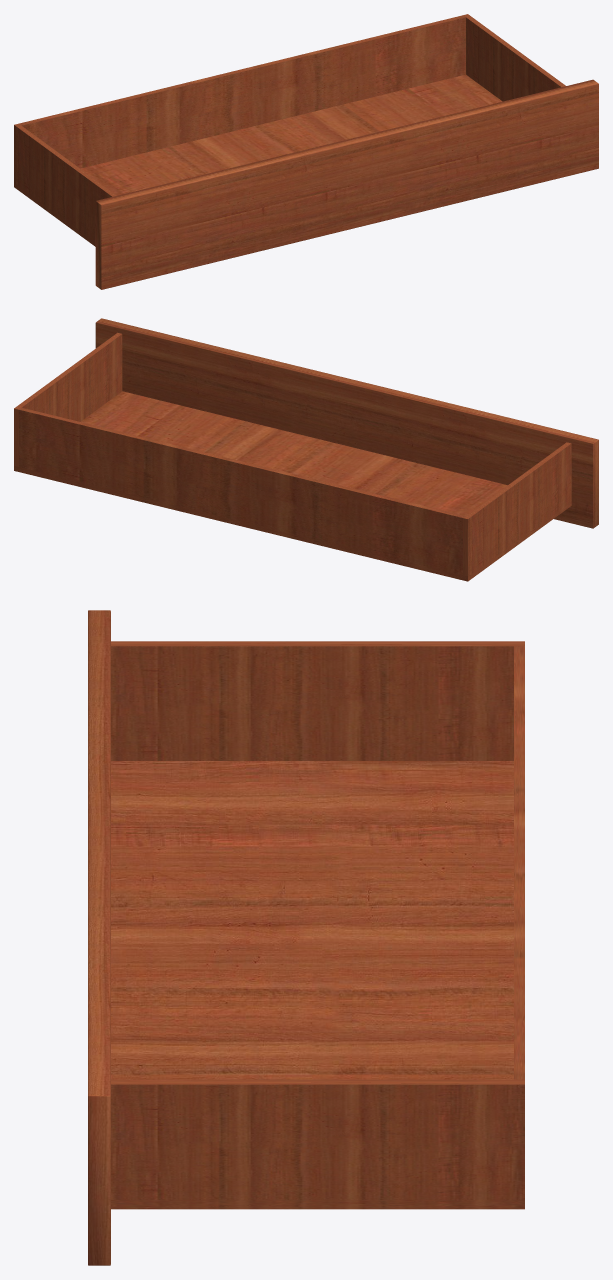
3 renders of one model, top to bottom at view 1: azimuth 30°, elevation 25°; view 2: azimuth 150°, elevation 25°; view 3: azimuth 270°, elevation 25°, orthographic. The views are drawn at different scales.
Visible parts, largest first — view 1: part2:drawer 1; view 2: part2:drawer 1; view 3: part2:drawer 1.
Part boxes in pixels (<box>): part2:drawer 1: <box>14,14,598,289</box>; part2:drawer 1: <box>14,318,598,581</box>; part2:drawer 1: <box>88,610,524,1265</box>.
Size of the model in its own units: 1.29 by 0.2102 by 0.4891.
Materials: 1 (1 with a texture image).
